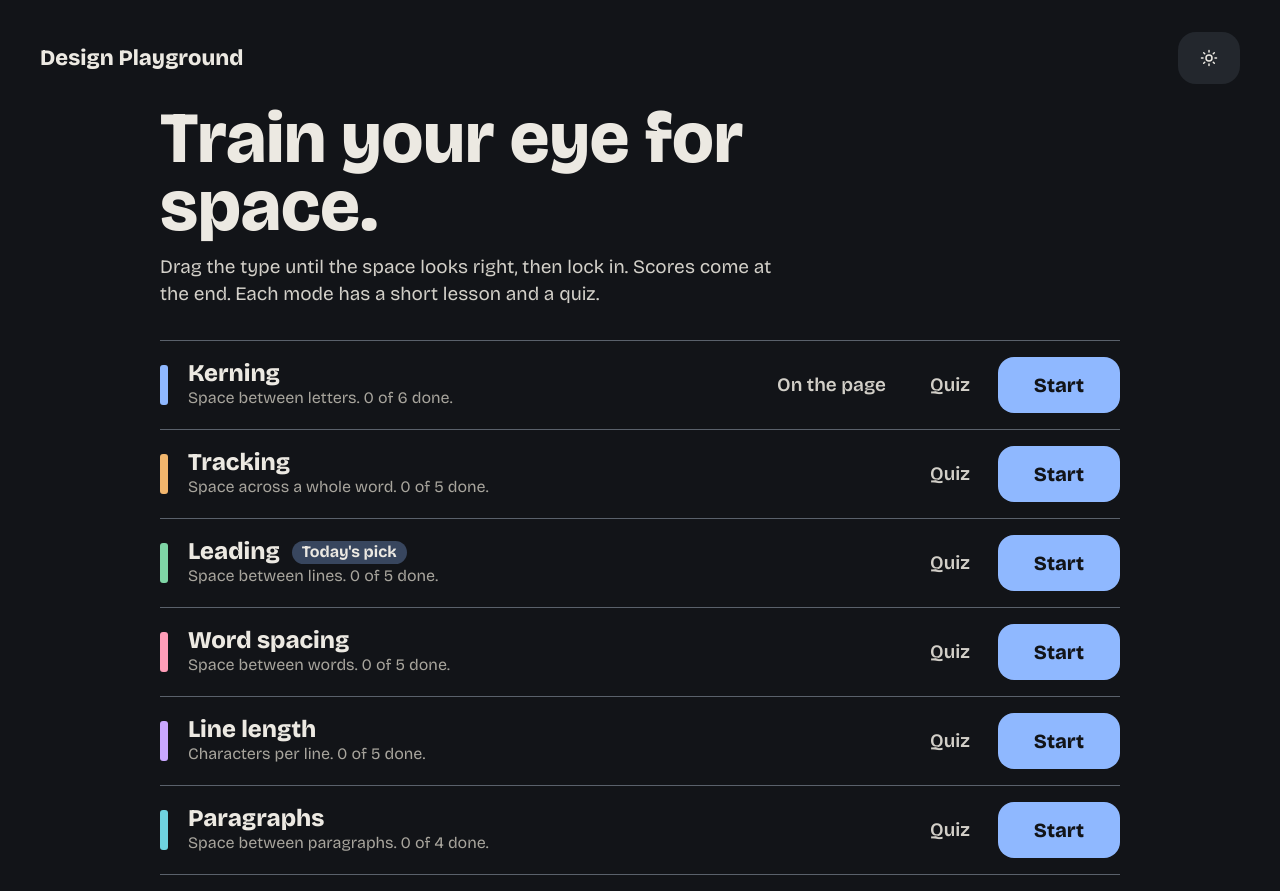
Design Playground › opens today's pick from the hub
Click the button "Start" in the row of "Leading" at {"x": 1059, "y": 563}, box [998,535,1120,591]
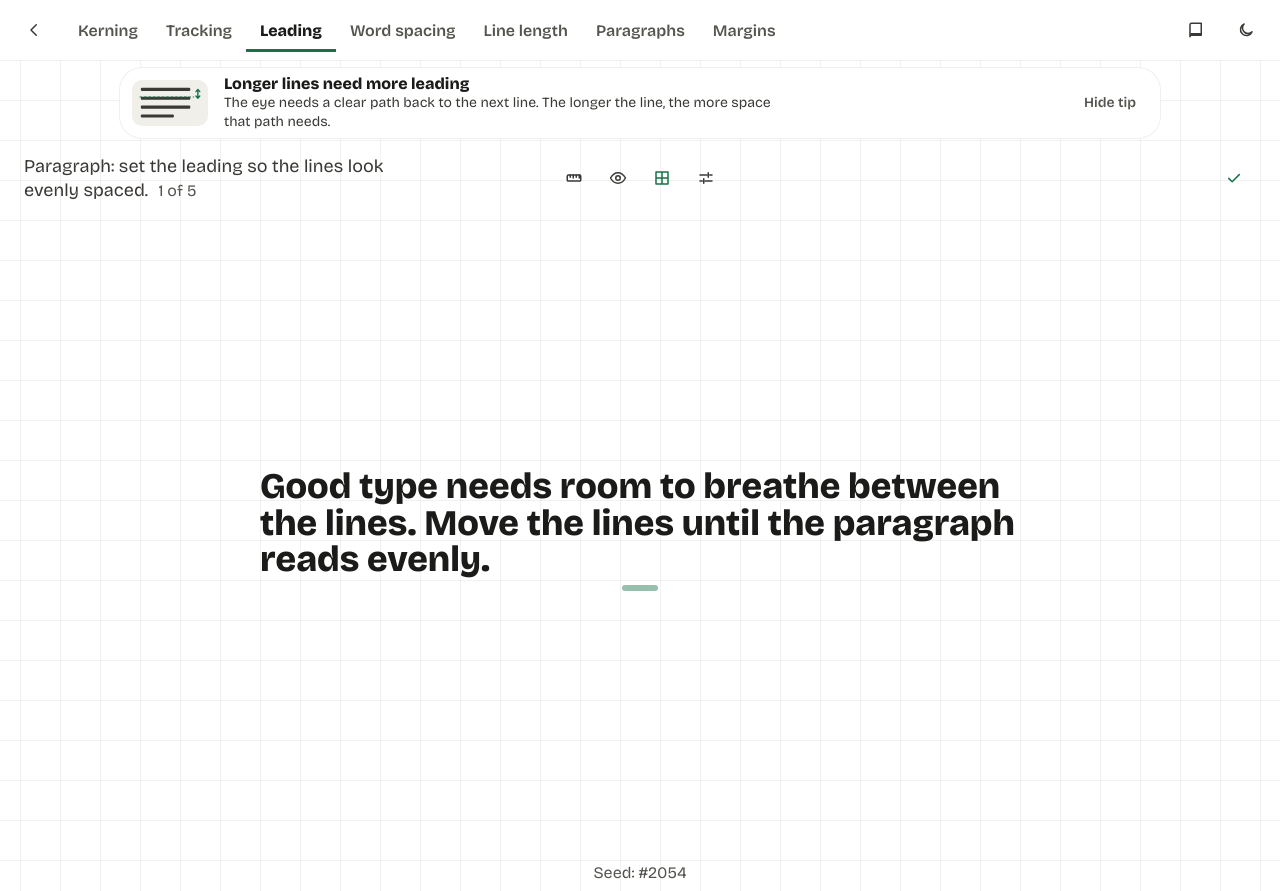
Check: the slider is shown, box [260,470,1020,579]
